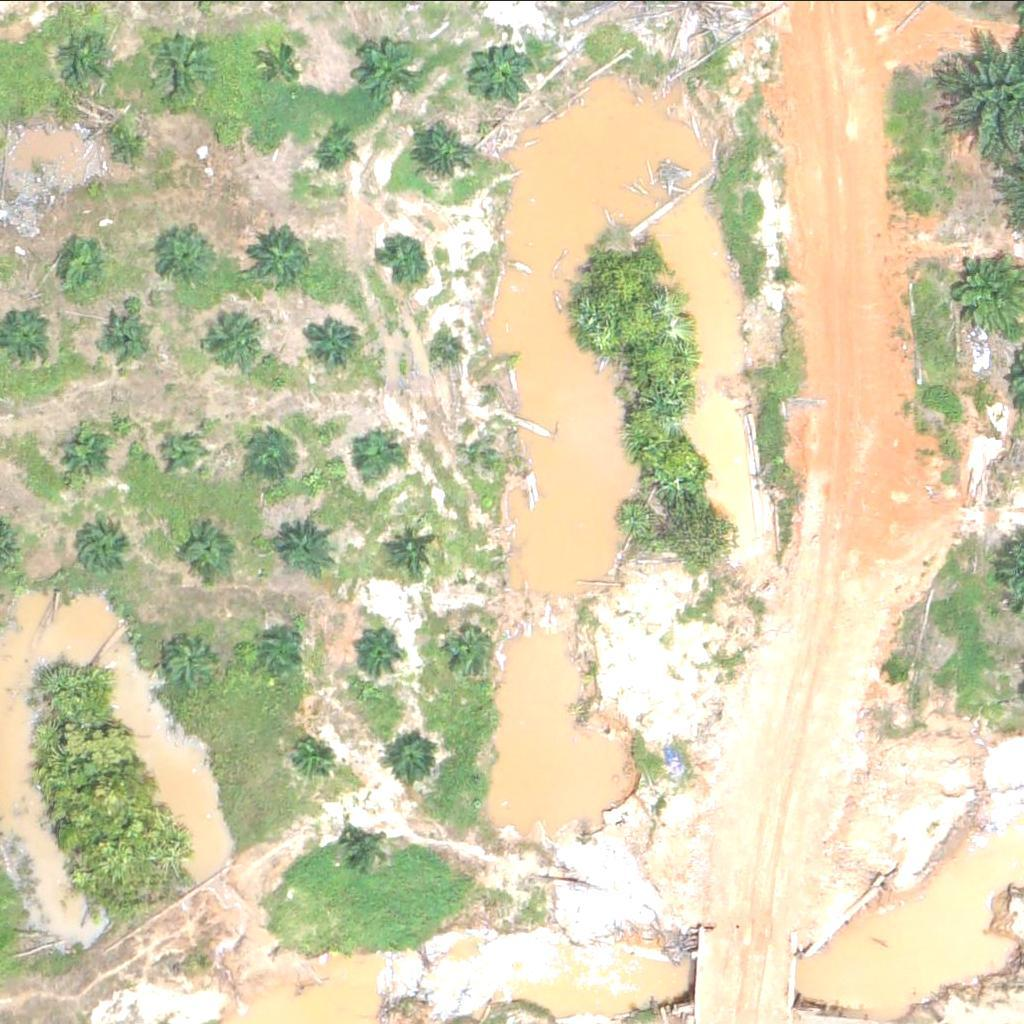Kelapa_Sawit: (136, 26, 212, 101), (356, 41, 419, 104), (279, 516, 342, 579), (465, 45, 528, 108), (245, 226, 308, 288), (208, 308, 271, 370), (53, 28, 116, 90), (155, 229, 218, 291), (50, 422, 113, 484), (410, 123, 473, 185), (346, 431, 397, 481), (247, 427, 298, 477), (184, 529, 235, 579), (169, 635, 220, 685), (252, 624, 303, 674), (350, 624, 401, 674), (389, 524, 440, 574), (312, 316, 362, 366), (379, 235, 429, 285), (96, 309, 146, 359), (56, 243, 106, 293), (74, 524, 124, 574), (390, 733, 440, 783), (259, 39, 309, 89), (316, 124, 366, 174), (99, 116, 149, 166), (451, 622, 501, 672), (286, 730, 336, 780), (342, 821, 392, 871), (163, 434, 201, 471), (432, 335, 457, 360), (209, 125, 234, 150), (466, 430, 491, 455)
